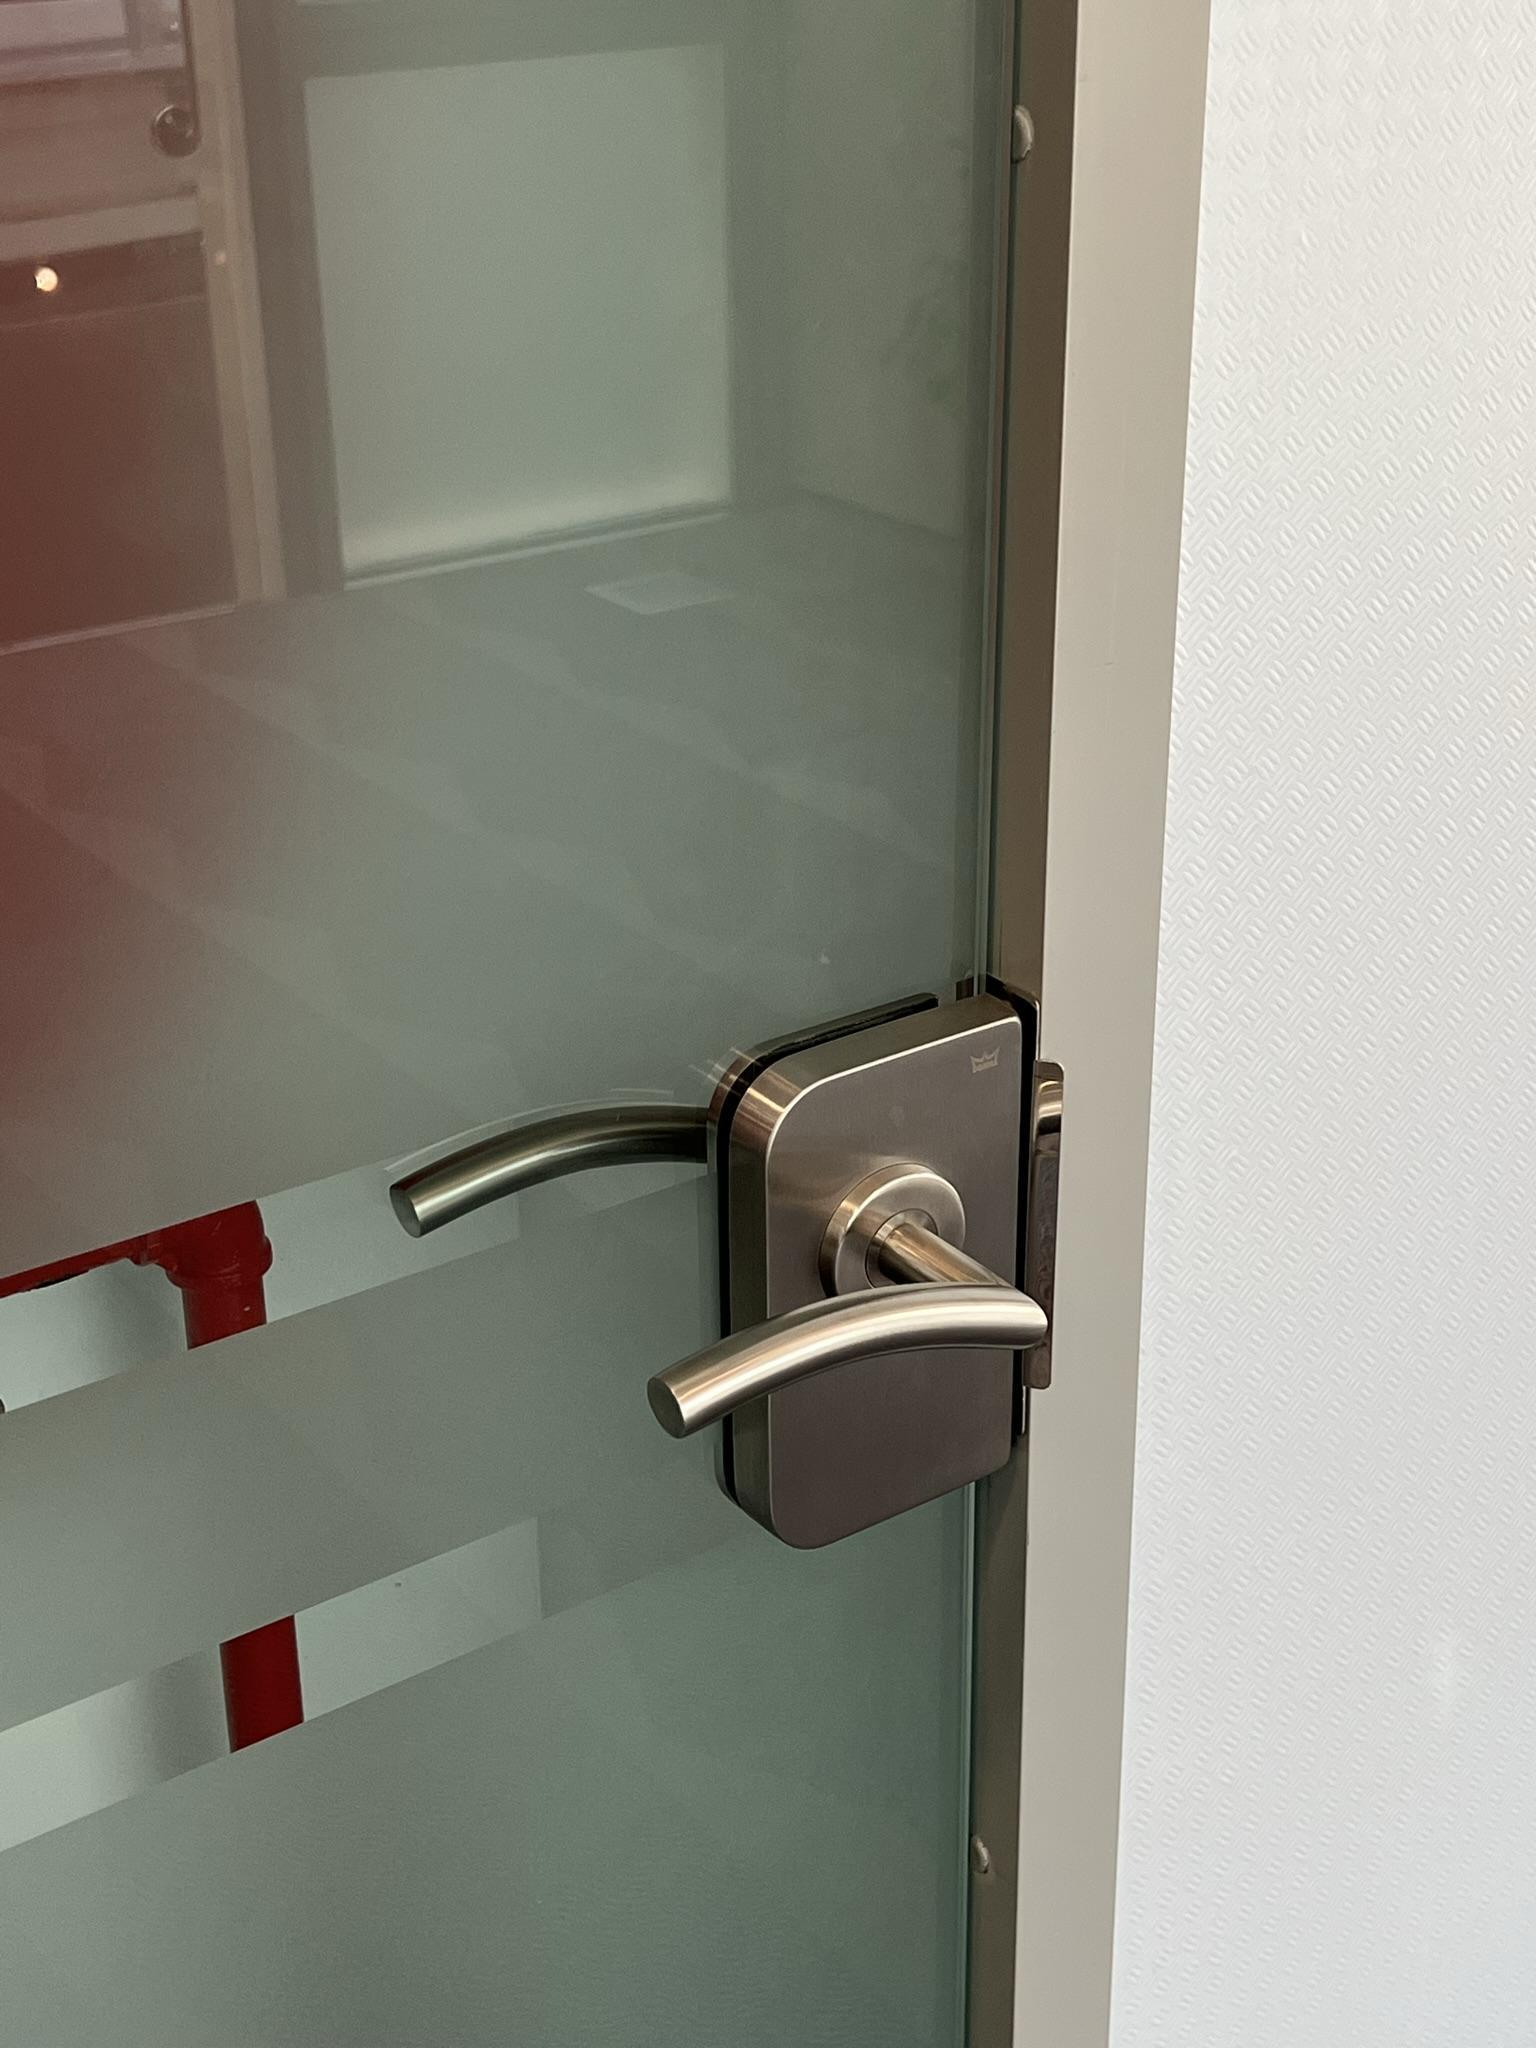door: (16, 6, 1089, 2043)
handle: (645, 968, 1058, 1546)
